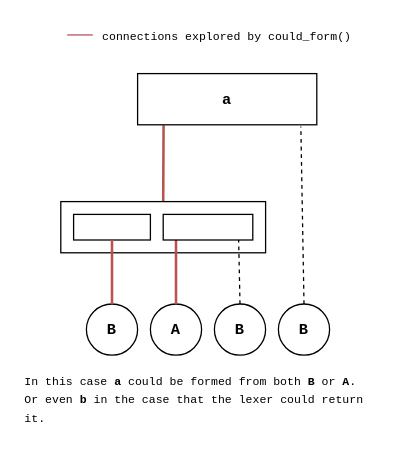
Image size: 402x449. Some labels were removed from this diagram. The centre of each missing label's shape, as x and y in pixels:
b ": [207,226]
b ': [111,226]
